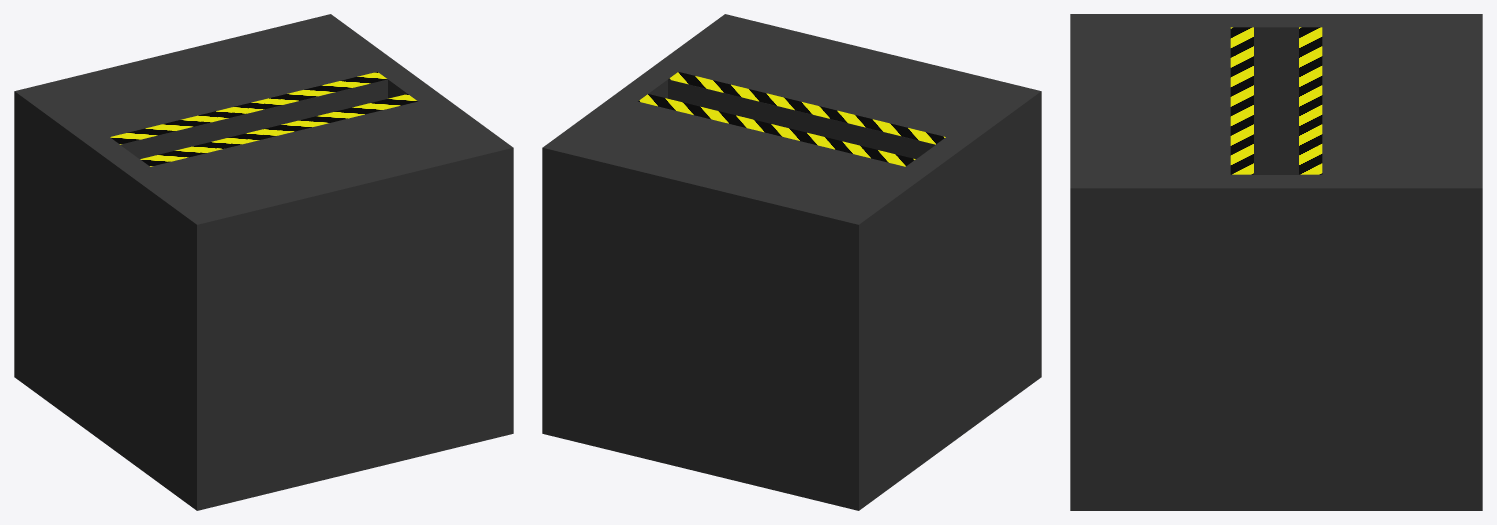
Rendered from saw_box.fbx.
The picture shows the model from 3 angles, left to right: view 1: azimuth 30°, elevation 25°; view 2: azimuth 150°, elevation 25°; view 3: azimuth 270°, elevation 25°; orthographic projection. The views are drawn at different scales.
Parts seen in each view (by area): view 1: bladebox; view 2: bladebox; view 3: bladebox.
Boxes of the visible parts, box(x1,y1,x2,y2) form: bladebox: box(14, 14, 513, 510); bladebox: box(542, 14, 1041, 510); bladebox: box(1070, 14, 1482, 510).
Size of the model in its own units: 244 by 211 by 244.
2 materials, 1 textured.
